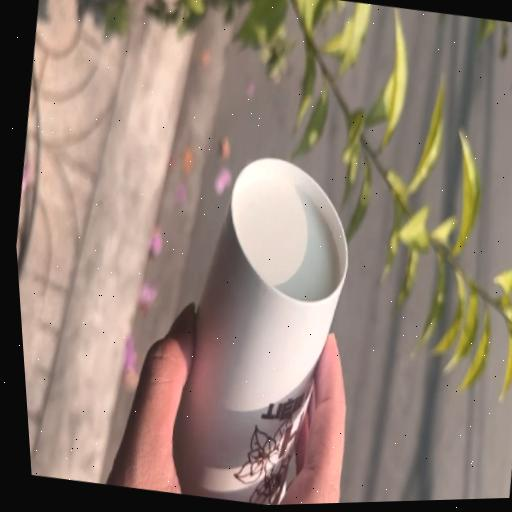Ly_giay: (172, 160, 346, 505)
